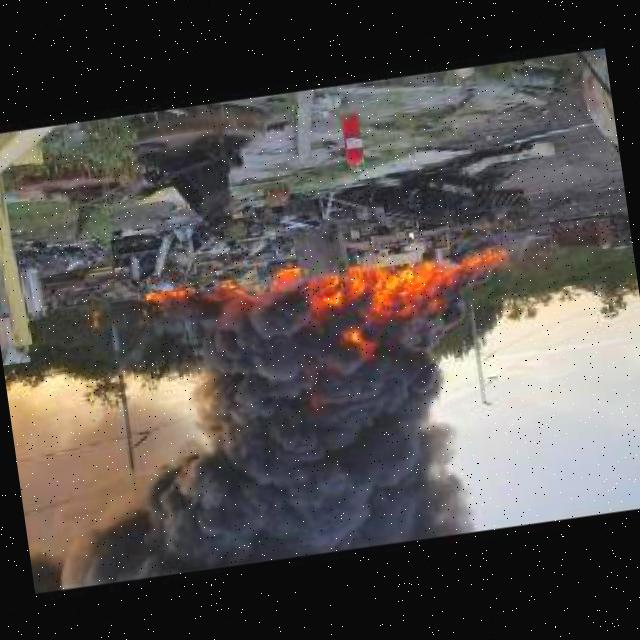fire: (121, 232, 527, 364), (330, 324, 382, 368)
